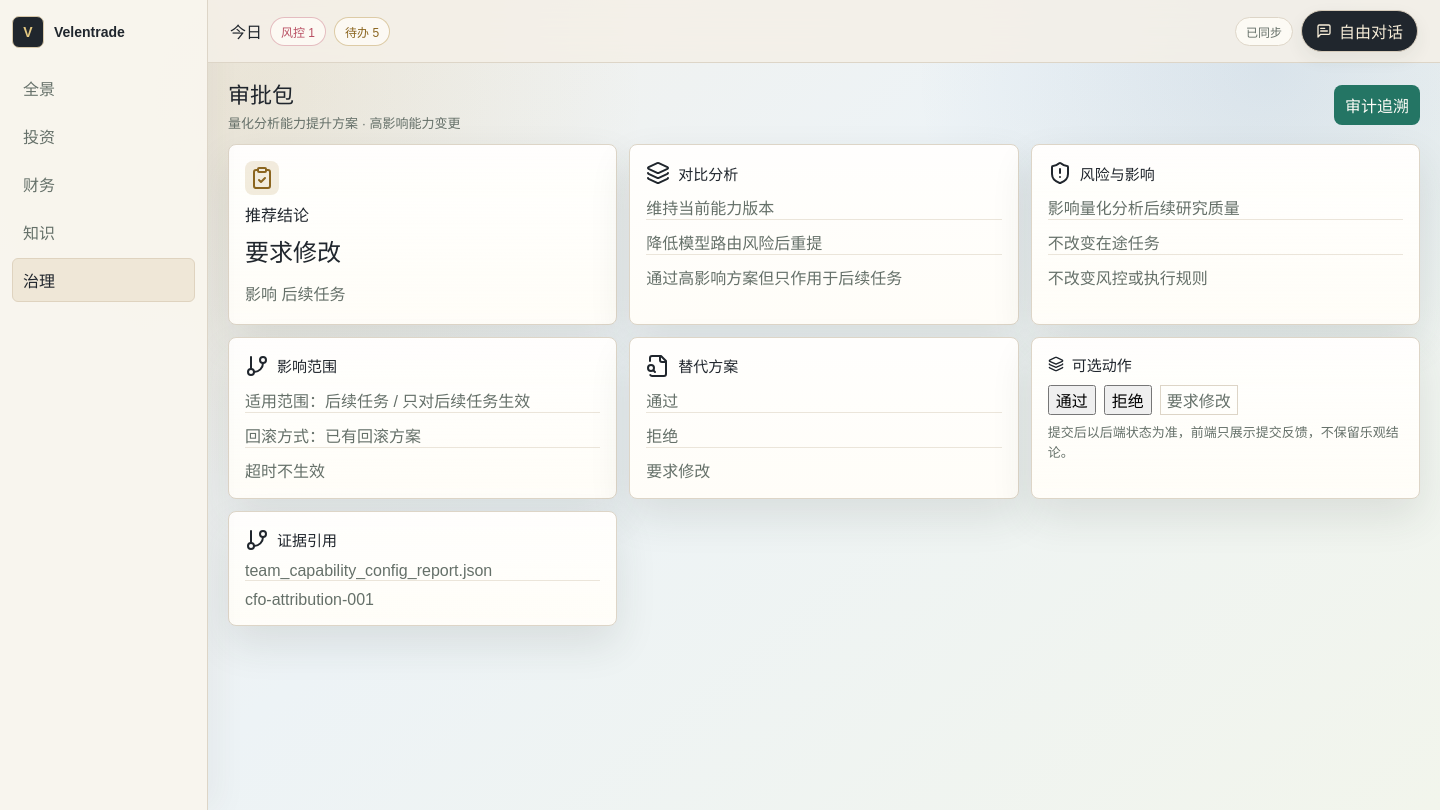
WI-004 workbench interactions › submits approval decisions with visible local feedback instead of a dead detail page
Click the button "要求修改". click: point(1199, 400)
box: [1160,385,1238,415]
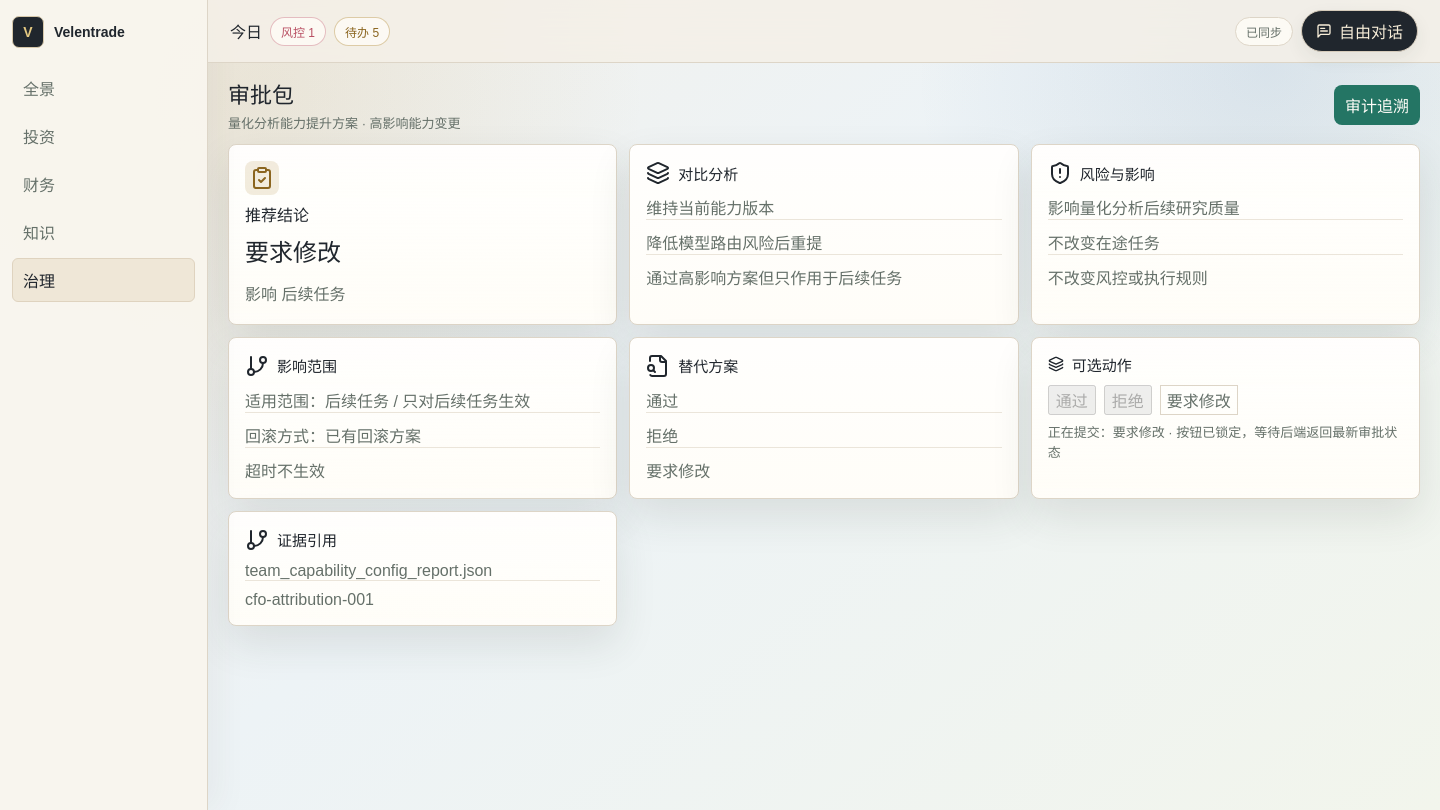
Check: the text "正在提交：要求修改" is shown, box [1048,423,1403,463]
Check: the text "等待后端返回最新审批状态" is shown, box [1048,425,1397,460]
Check: the button "通过" is disabled, box [1048,385,1096,415]
